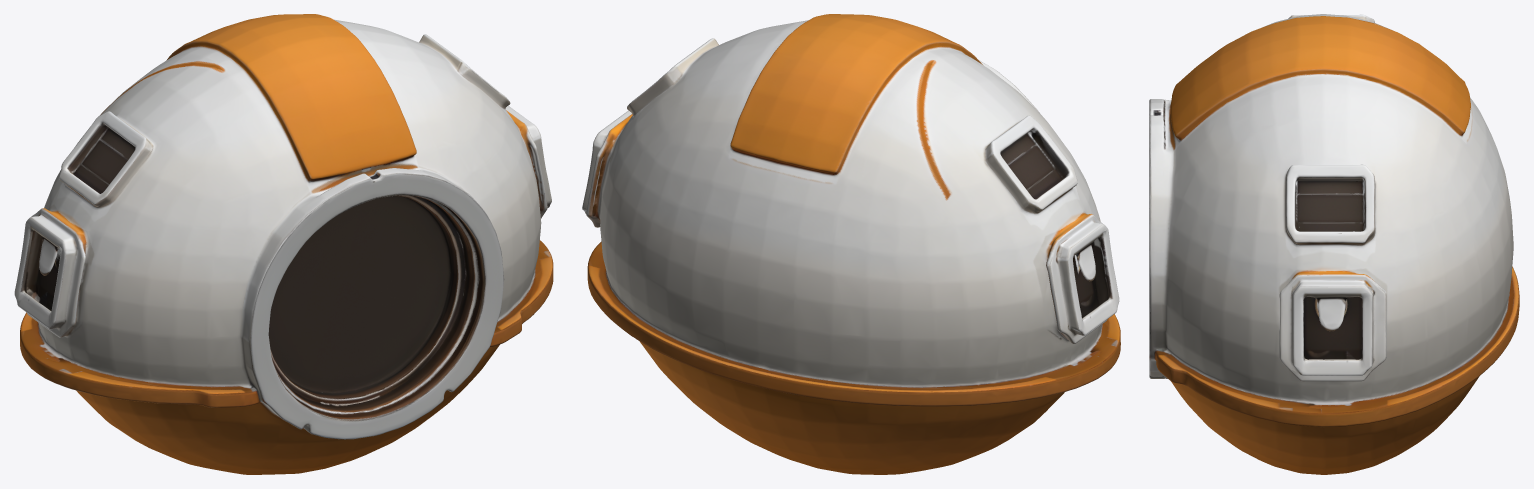
File: Space-escape-pod.fbx
The picture shows the model from 3 angles, left to right: view 1: azimuth 30°, elevation 25°; view 2: azimuth 150°, elevation 25°; view 3: azimuth 270°, elevation 25°; orthographic projection. The views are drawn at different scales.
Parts seen in each view (by area): view 1: Space-escape-pod; view 2: Space-escape-pod; view 3: Space-escape-pod.
Part boxes in pixels (x1=…): Space-escape-pod: x1=14, y1=14, x2=553, y2=474; Space-escape-pod: x1=582, y1=14, x2=1120, y2=474; Space-escape-pod: x1=1149, y1=14, x2=1519, y2=474.
Size of the model in its own units: 190 by 155 by 125.
1 material, 1 textured.
